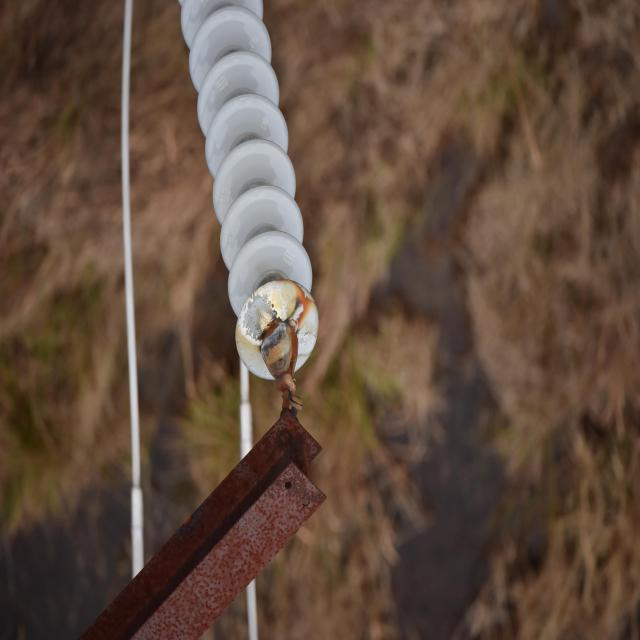insulator: (178, 1, 319, 380)
